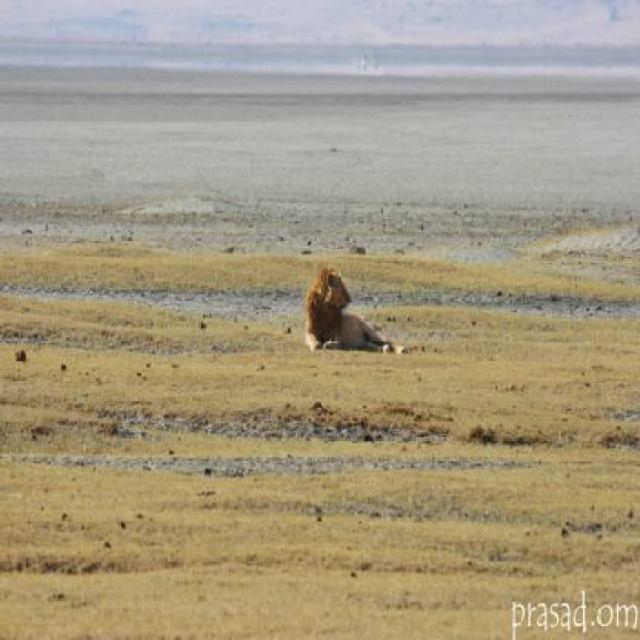Lion: (285, 255, 417, 372)
